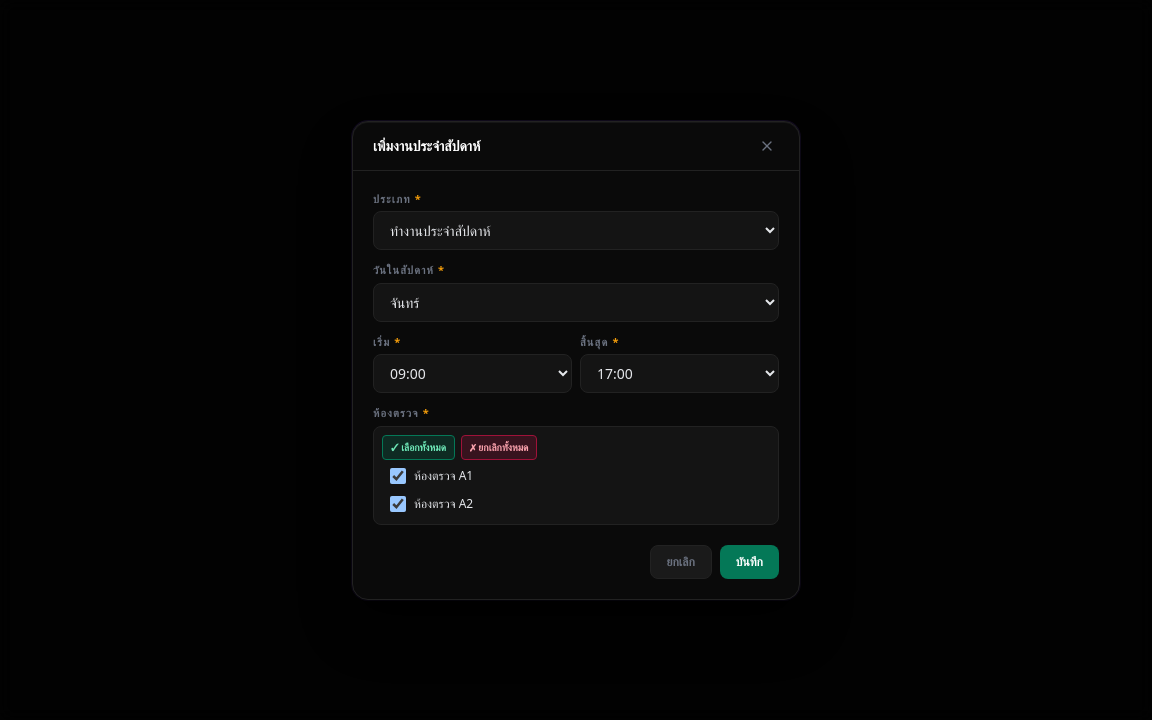
Test: V56/BS-15 — F5: select-all button → all rooms checked → submit enabled › F5.1: select-all checks all doctor rooms
First clear, then select-all
Click the button with test id "schedule-form-rooms-clear-all": (499, 447) [461,434,537,460]
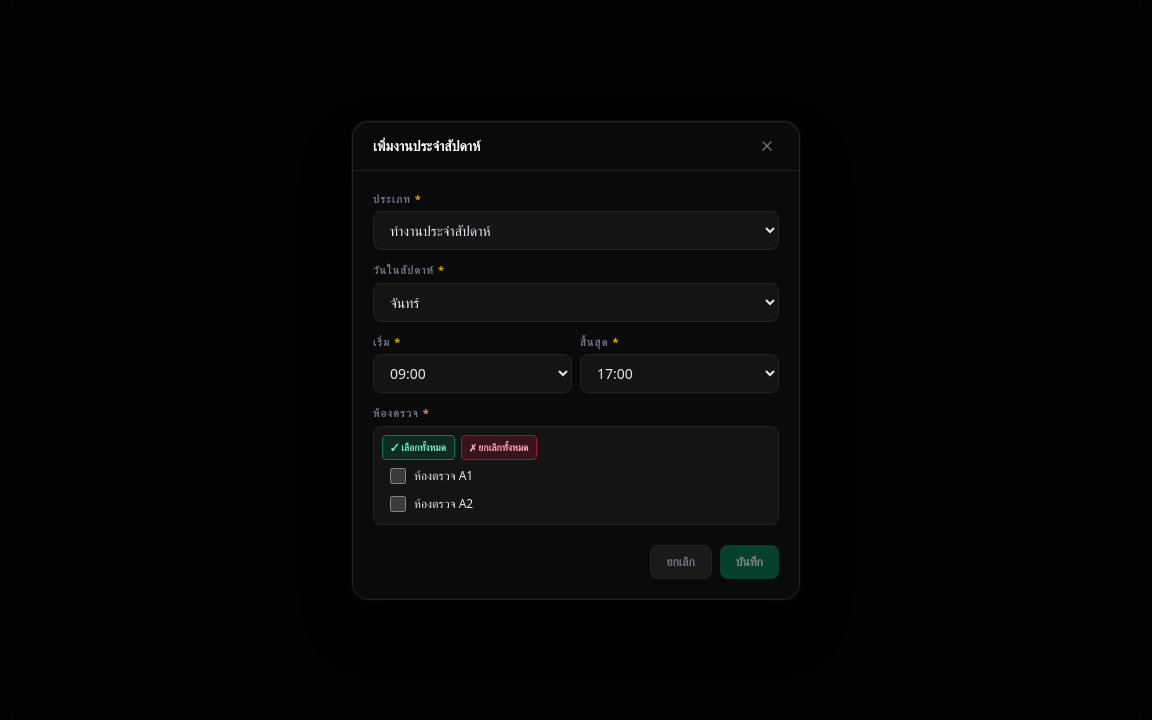
Click the button with test id "schedule-form-rooms-select-all": (418, 447) [382,434,455,460]
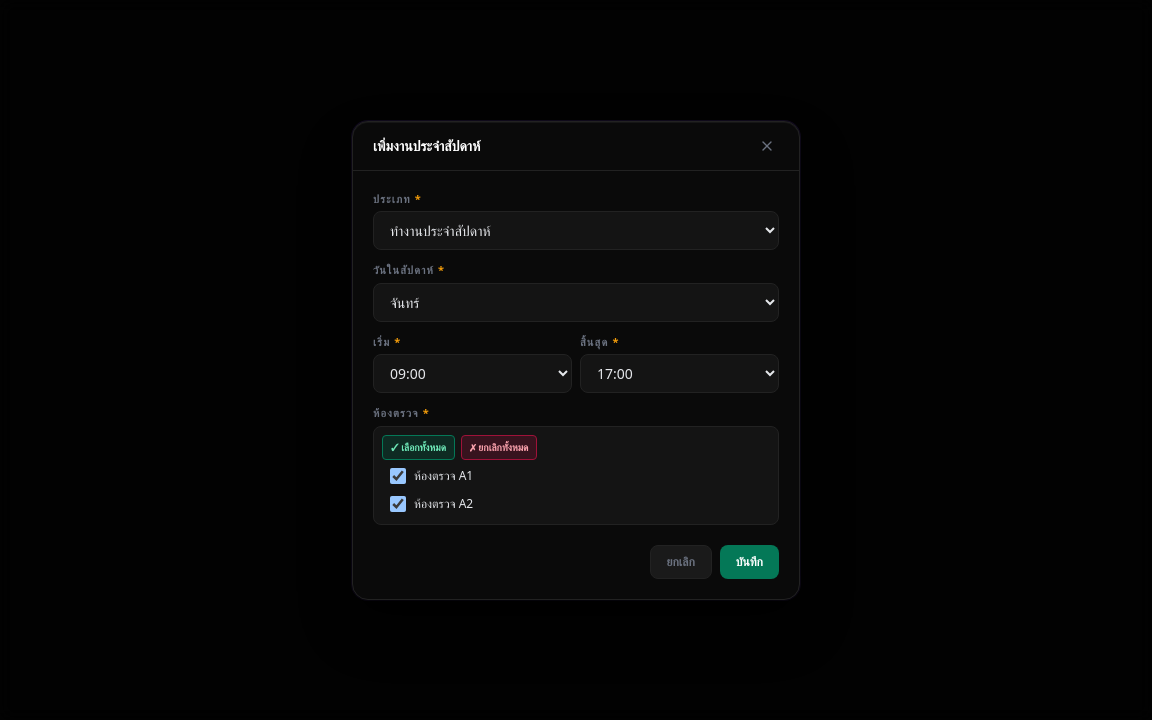
Expected: the checkbox labelled "ห้องตรวจ A1" is checked, [390,468,406,484]
Expected: the checkbox labelled "ห้องตรวจ A2" is checked, [390,496,406,512]
